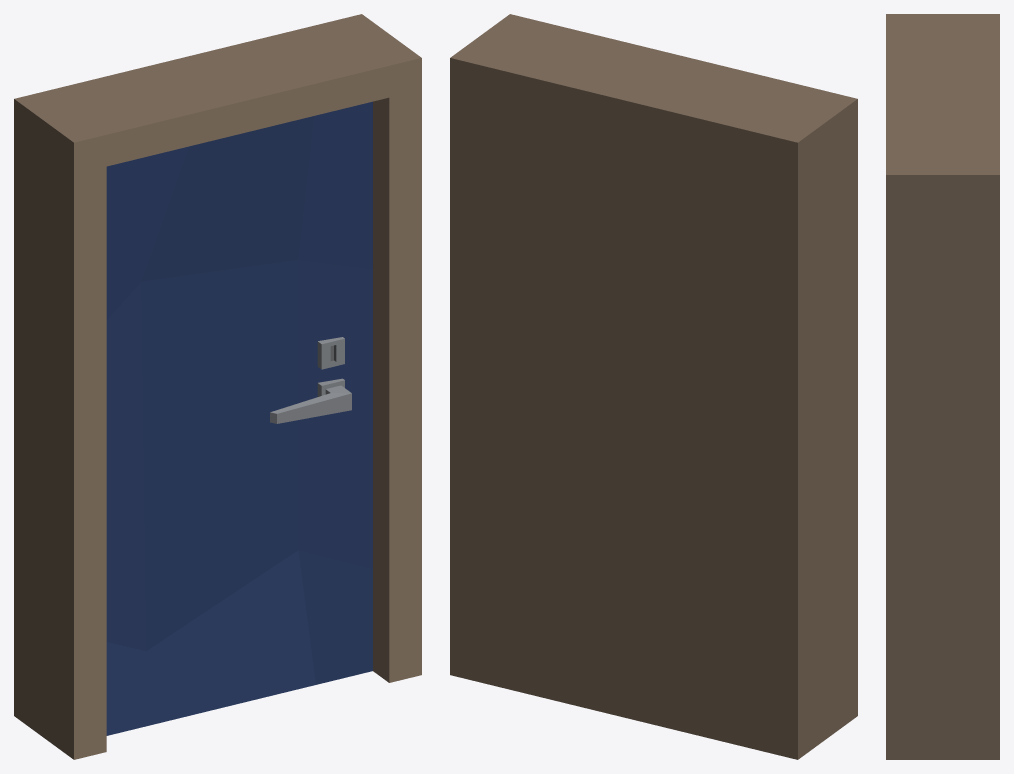
The model's file is SM_Prop_Door_02.fbx.
The picture shows the model from 3 angles, left to right: view 1: azimuth 30°, elevation 25°; view 2: azimuth 150°, elevation 25°; view 3: azimuth 270°, elevation 25°; orthographic projection. The views are drawn at different scales.
Parts seen in each view (by area): view 1: SM_Prop_Door_02; view 2: SM_Prop_Door_02; view 3: SM_Prop_Door_02.
Part boxes in pixels (x1,y1,x2,y2): SM_Prop_Door_02: (14, 14, 421, 759); SM_Prop_Door_02: (450, 14, 857, 759); SM_Prop_Door_02: (886, 14, 999, 759).
Bounding box in the file's own units: 154 × 262 × 46.11.
